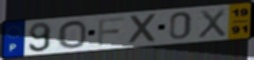0: (168, 11, 194, 42)
9: (27, 21, 53, 54)
F: (96, 15, 126, 47)
O: (56, 20, 88, 50)
X: (128, 12, 160, 46), (196, 8, 228, 40)
